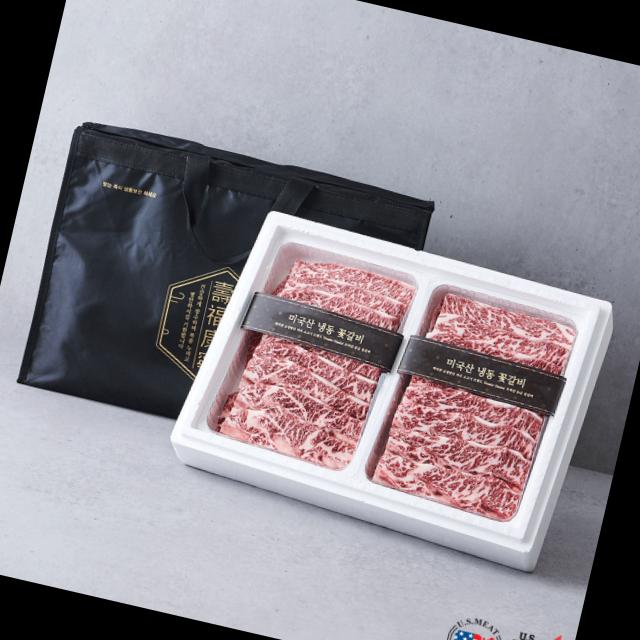beef: (379, 277, 571, 527), (212, 229, 408, 471)
